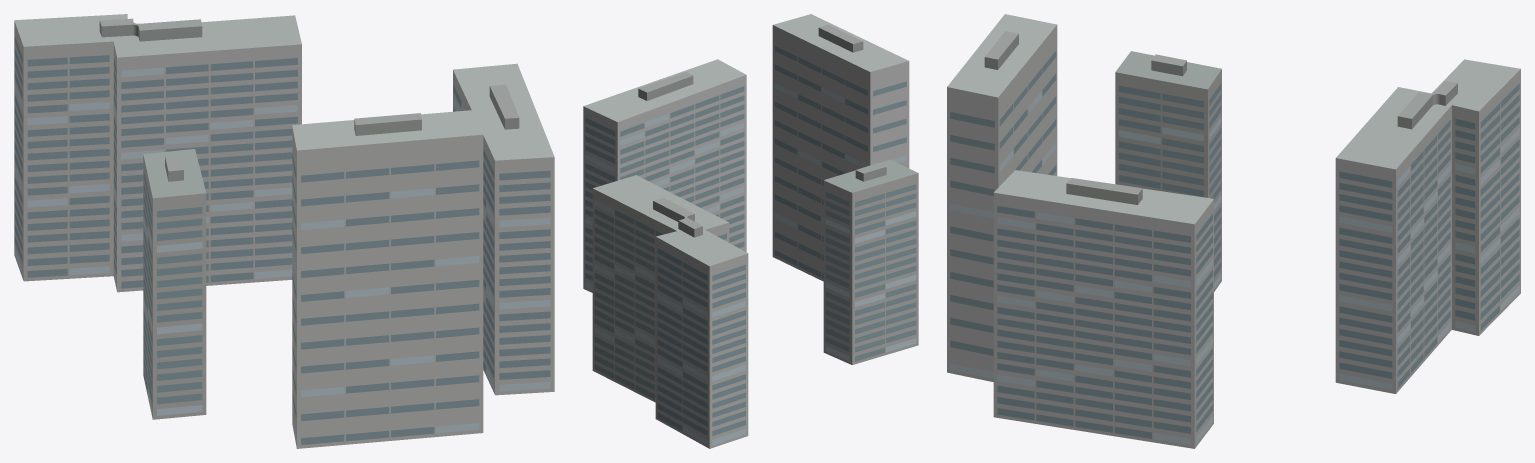
The model's file is apt-a13077201.glb.
3 views of the same model, side by side, from view 1: azimuth 30°, elevation 25°; view 2: azimuth 150°, elevation 25°; view 3: azimuth 270°, elevation 25° (orthographic). The views are drawn at different scales.
Visible parts, largest first — view 1: apt-a13077201; view 2: apt-a13077201; view 3: apt-a13077201.
Boxes of the visible parts, x1,y1,x2,y2 form: apt-a13077201: [14, 14, 554, 448]; apt-a13077201: [583, 14, 918, 448]; apt-a13077201: [947, 14, 1520, 448].
Bounding box in the file's own units: 91.56 × 68 × 119.
